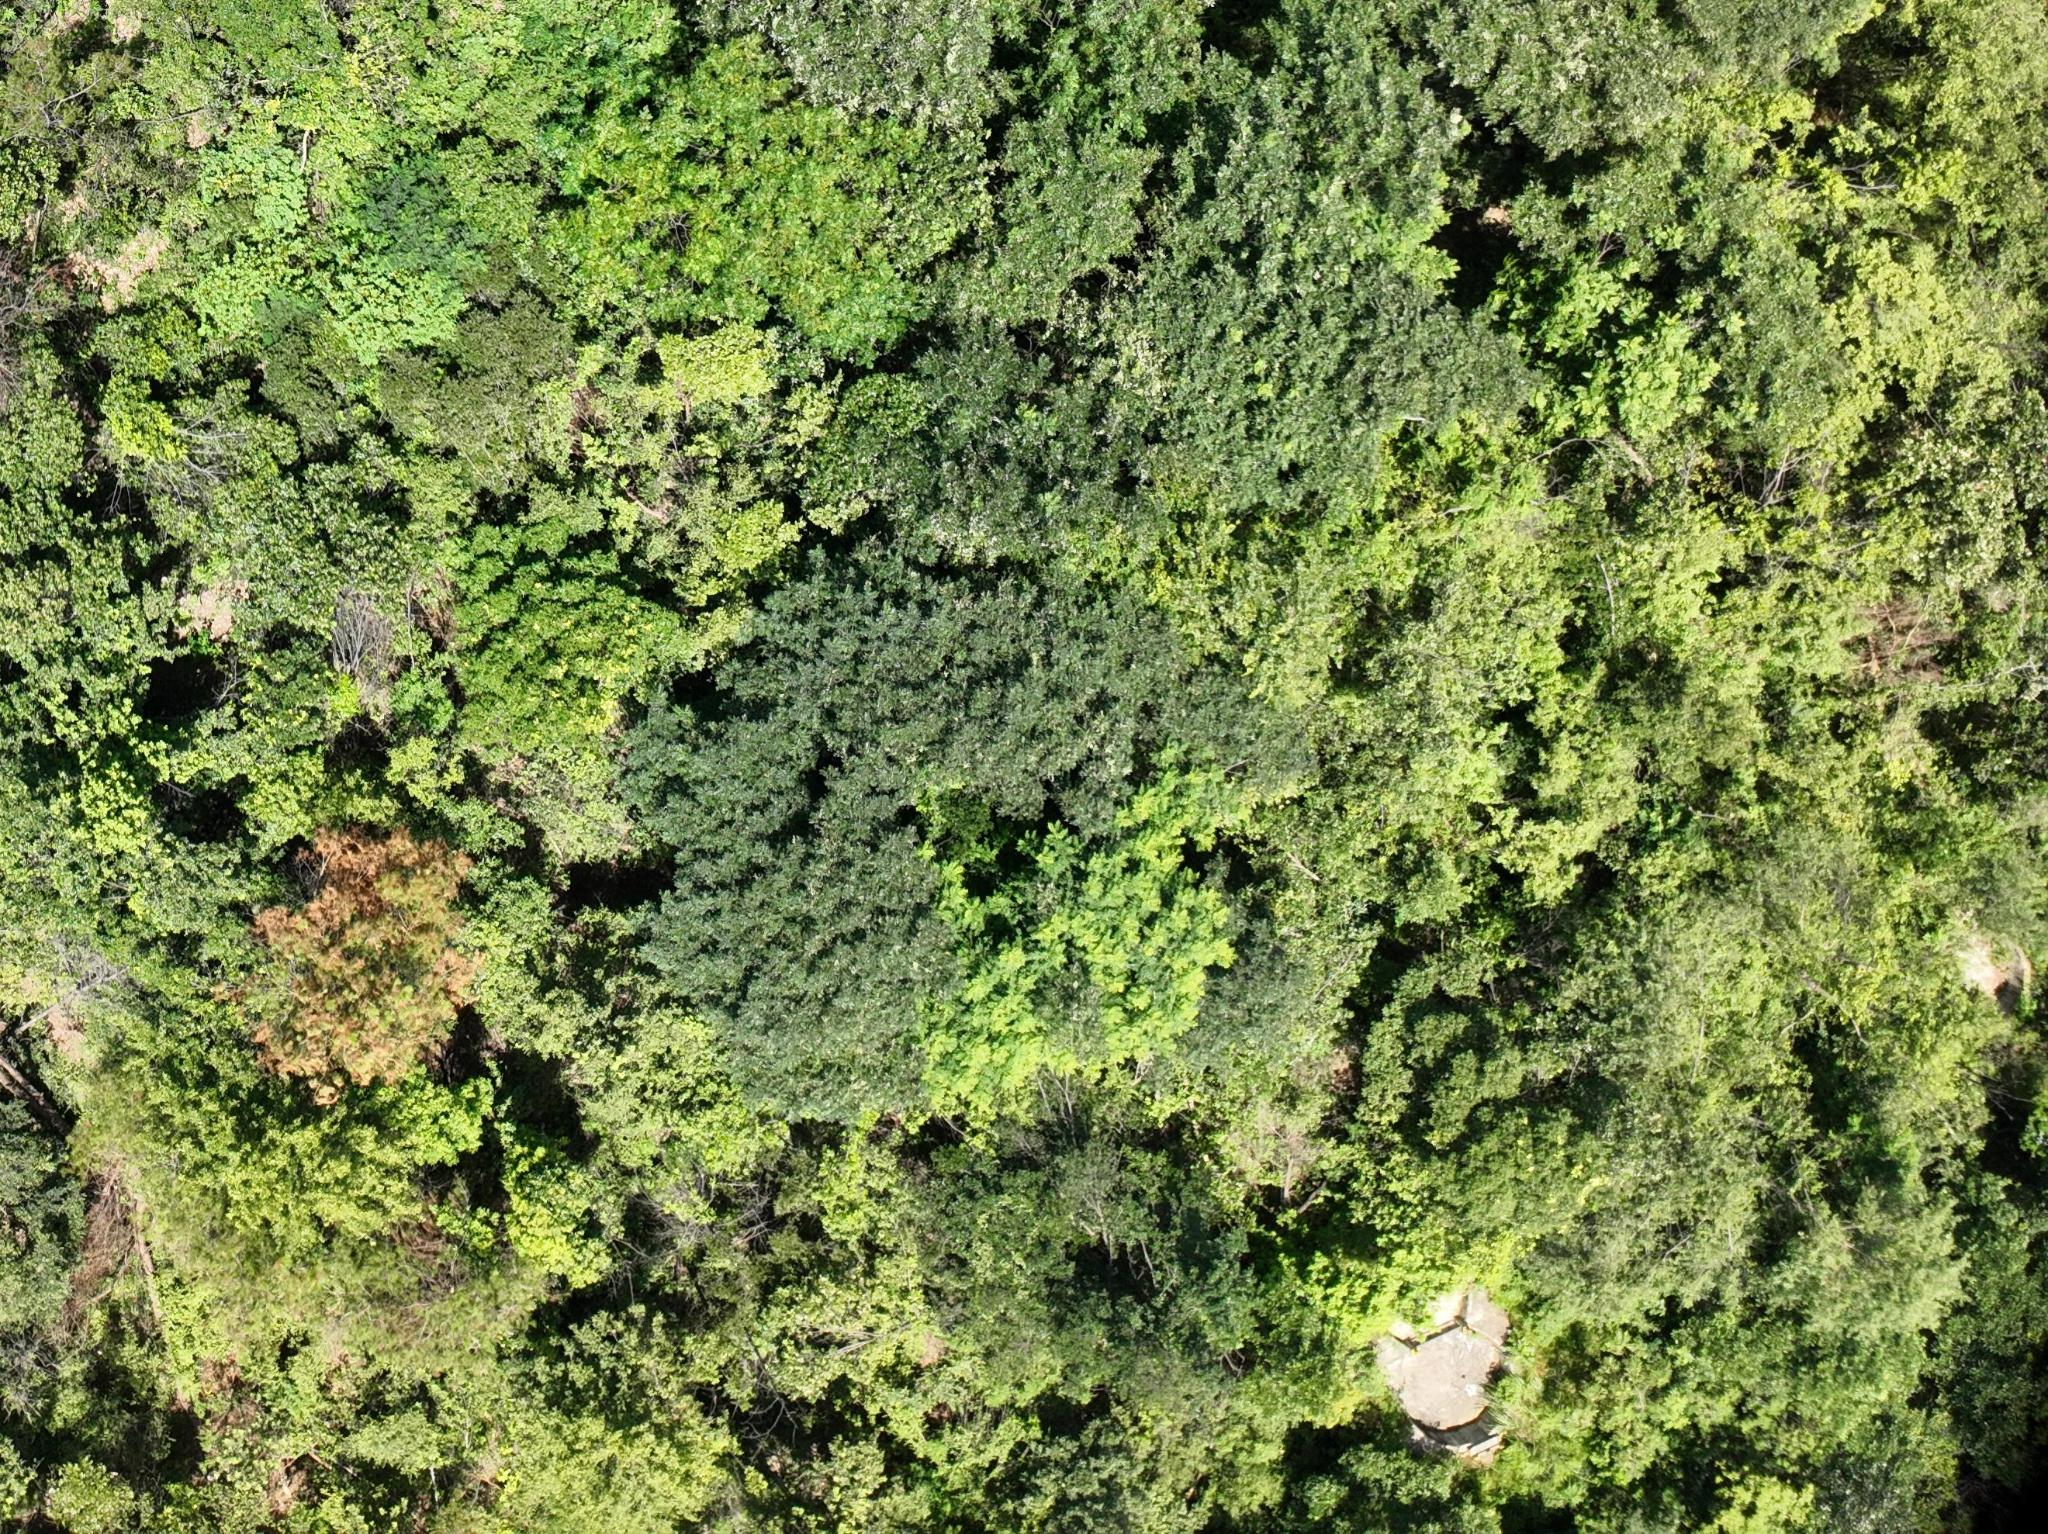heavy: (226, 825, 471, 1083)
